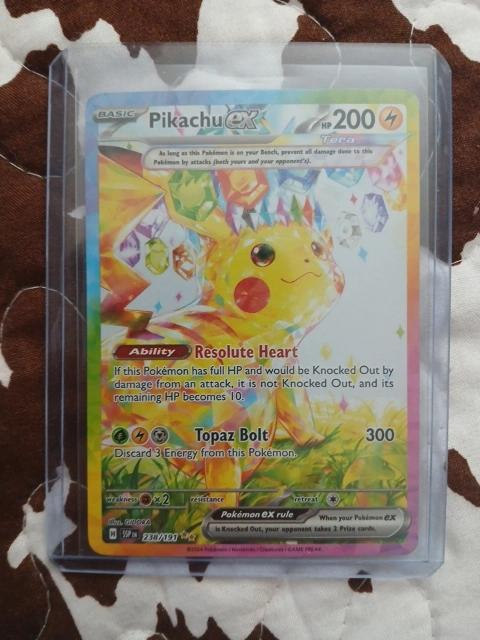Card: (80, 83, 424, 560)
Name: (145, 106, 265, 134)
